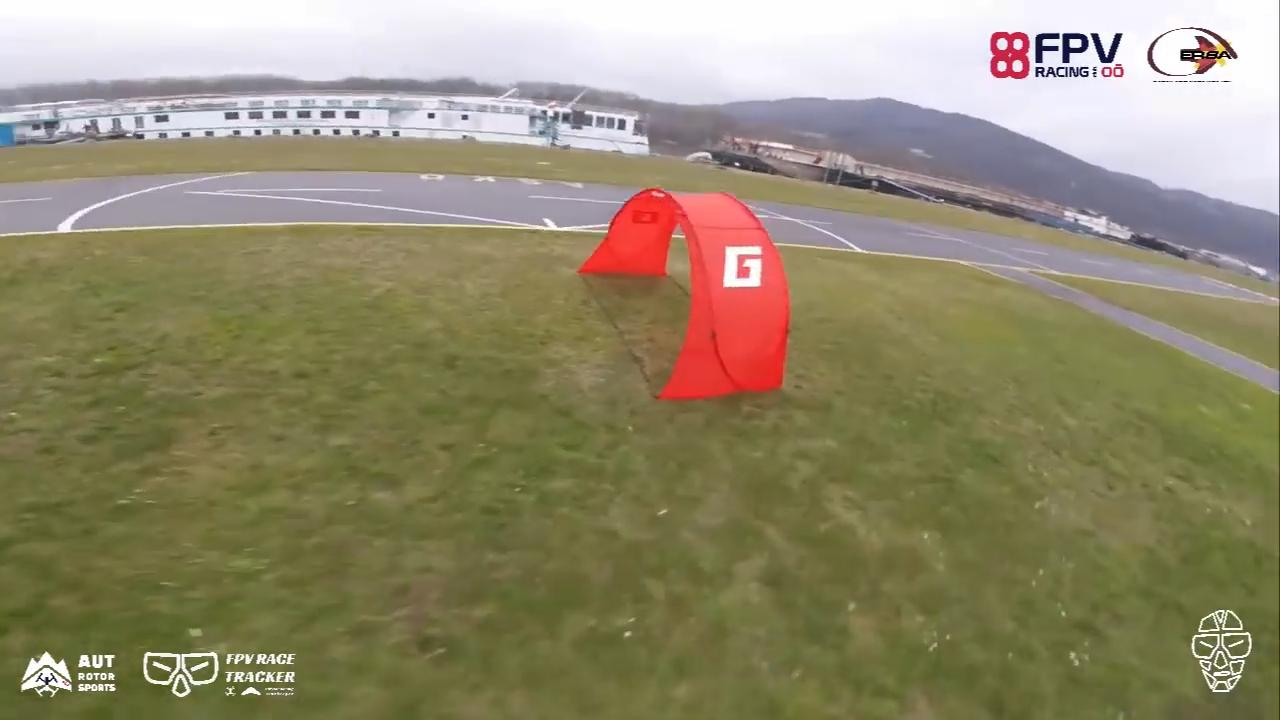gate: (576, 188, 791, 402)
